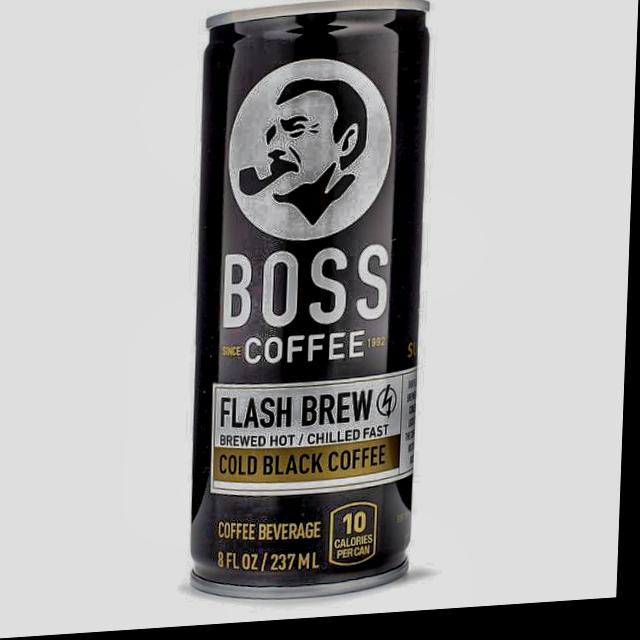can: (176, 0, 451, 616)
